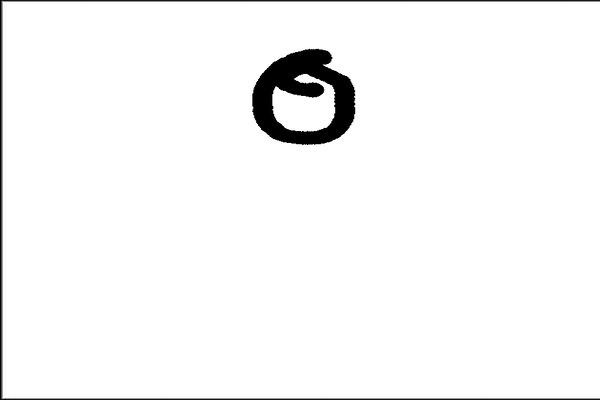O: (238, 42, 368, 153)
